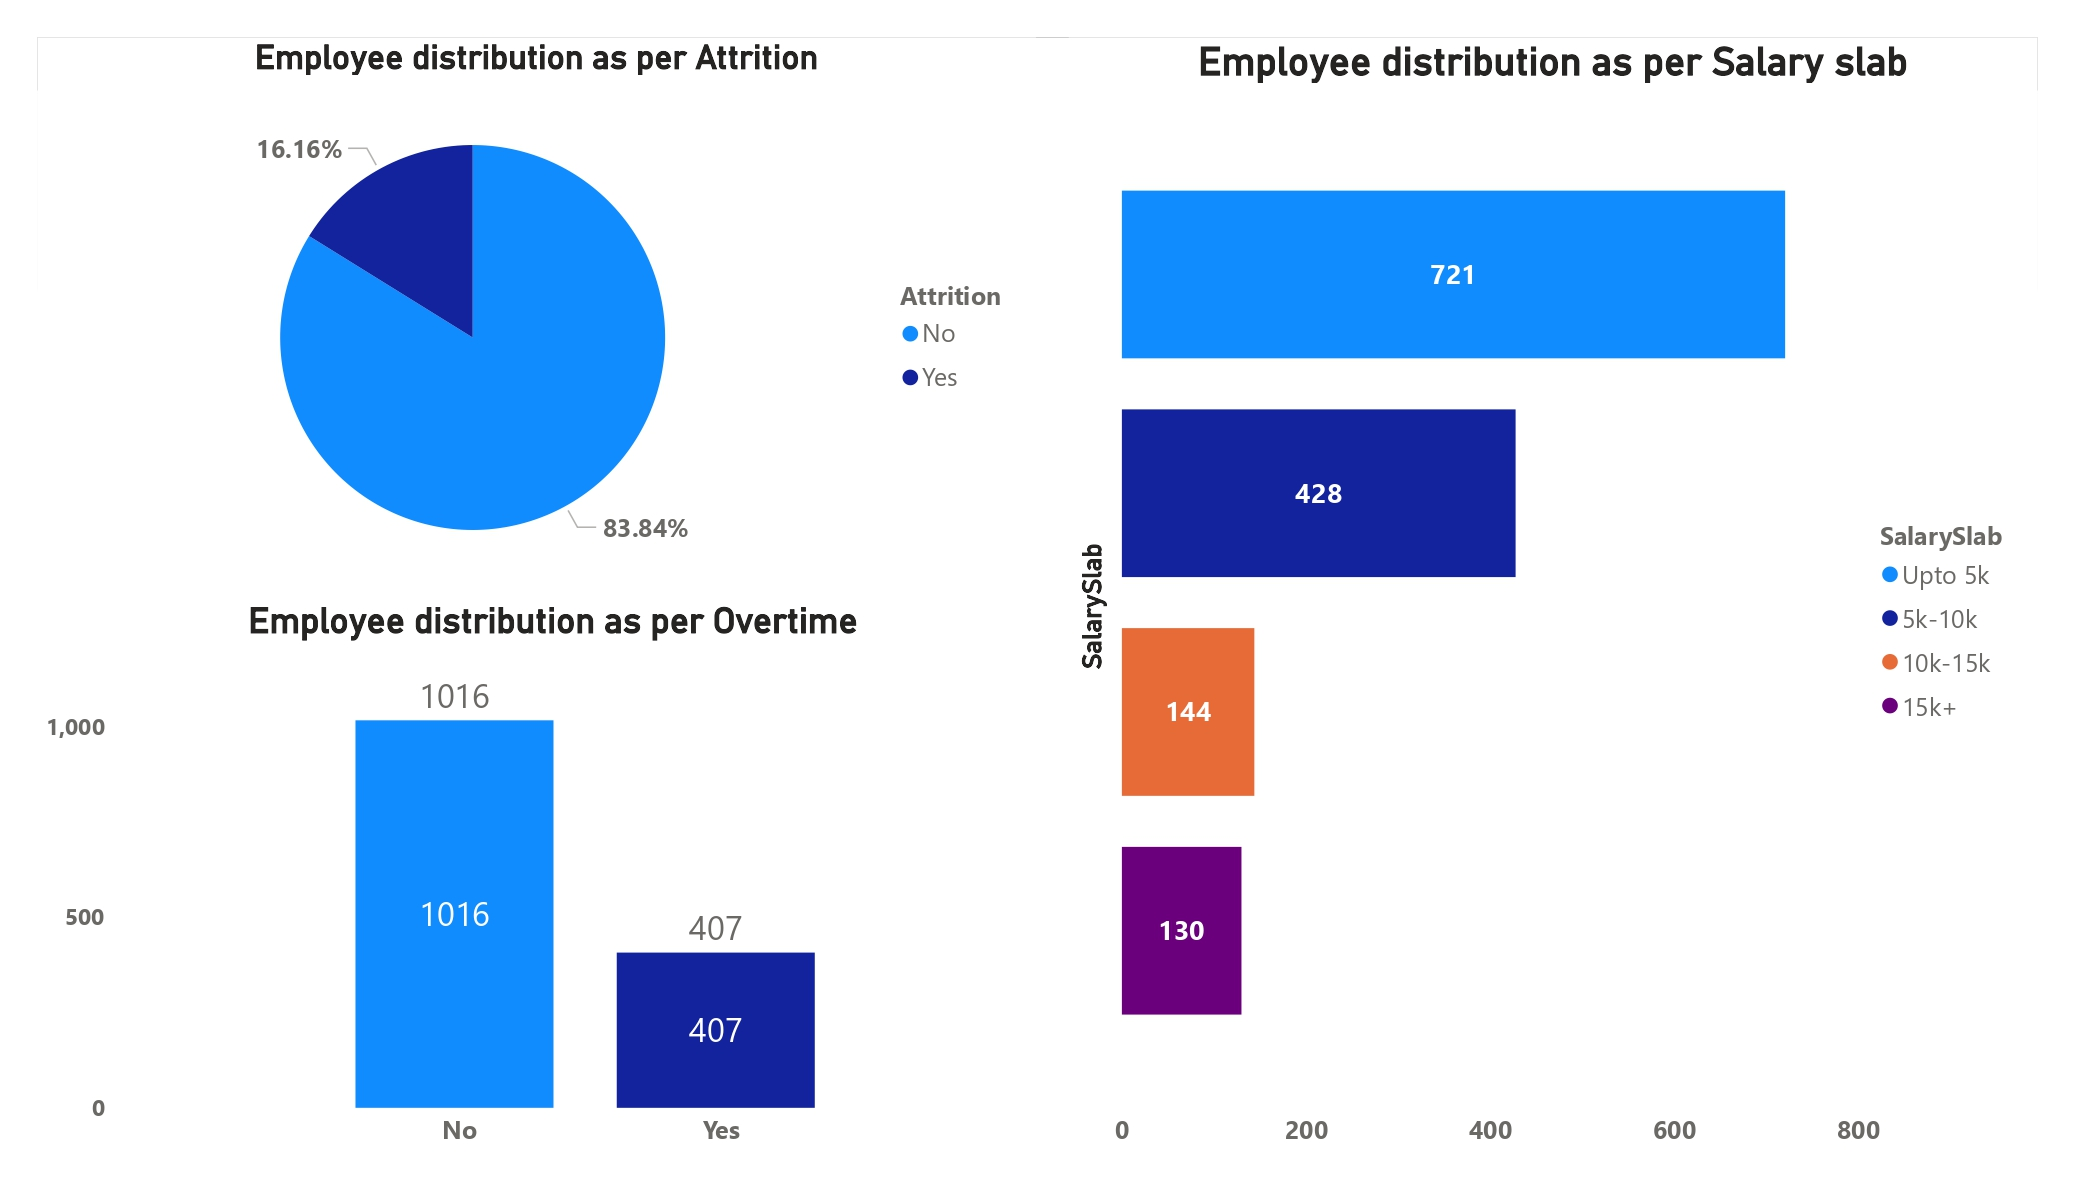

The page's visual inventory and layout, read from the dashboard file:
{"tool":"powerbi","page":{"name":"Page 7","canvas":[1280,720],"ordinal":3},"visuals":[{"type":"barChart","title":"Employee distribution as per Salary slab","fields":{"Category":["Cleaned data.SalarySlab"],"Y":["Cleaned data.SalarySlab"],"Series":["Cleaned data.SalarySlab"]},"box":[659.5,0,620.6,720],"z":0},{"type":"pieChart","title":"Employee distribution as per Attrition","fields":{"Category":["Cleaned data.Attrition"],"Y":["Cleaned data.Attrition"]},"box":[0,0,639.4,360],"z":1000},{"type":"columnChart","title":"Employee distribution as per Overtime","fields":{"Category":["Cleaned data.OverTime"],"Y":["Cleaned data.OverTime"],"Series":["Cleaned data.OverTime"]},"box":[0,360,659.5,360],"z":2000}]}

Visuals, with their boxes on the page's 1280x720 design canvas (x1, y1, x2, y2). These are canvas units, not pixel positions in the 2075x1200 screenshot, which may show the page scaled, cropped or inside an application window:
"Employee distribution as per Salary slab" barChart: [660,0,1280,720]
"Employee distribution as per Attrition" pieChart: [0,0,639,360]
"Employee distribution as per Overtime" columnChart: [0,360,660,720]
